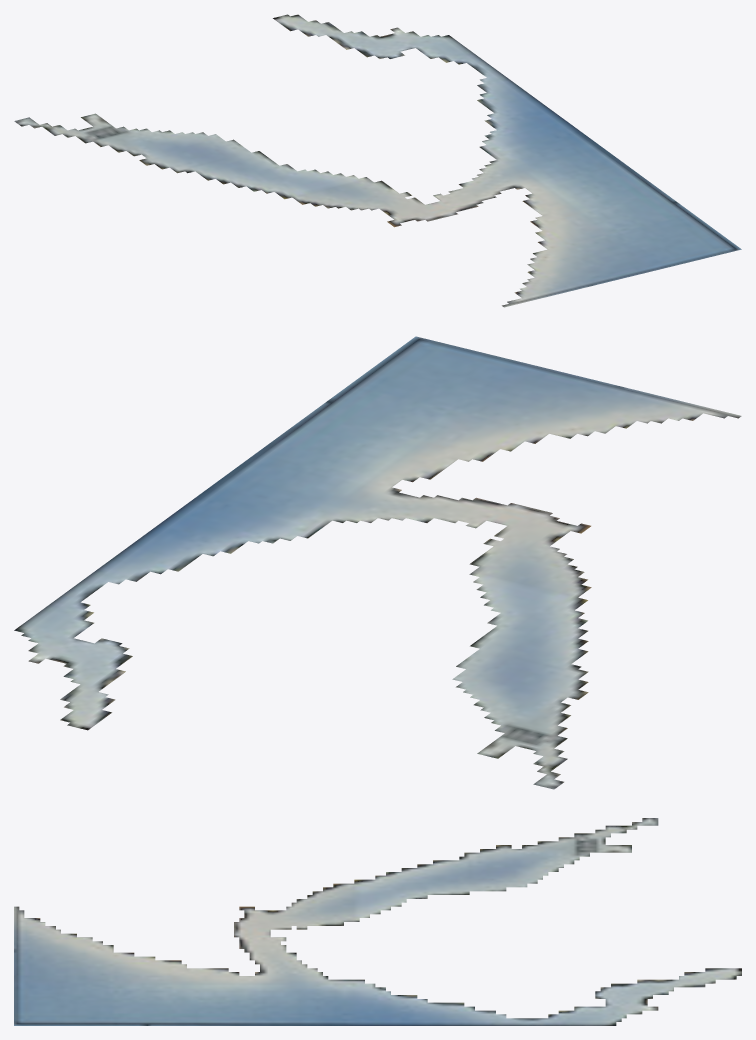
File: saudi-arabia-sea.gltf
3 renders of one model, top to bottom at view 1: azimuth 30°, elevation 25°; view 2: azimuth 150°, elevation 25°; view 3: azimuth 270°, elevation 25°, orthographic. The views are drawn at different scales.
Parts seen in each view (by area): view 1: Plane; view 2: Plane; view 3: Plane.
Boxes of the visible parts, x1,y1,x2,y2 form: Plane: [14, 14, 741, 307]; Plane: [14, 336, 741, 789]; Plane: [14, 818, 741, 1025].
Size of the model in its own units: 0.5331 by 0 by 0.7894.
1 material, 1 textured.
